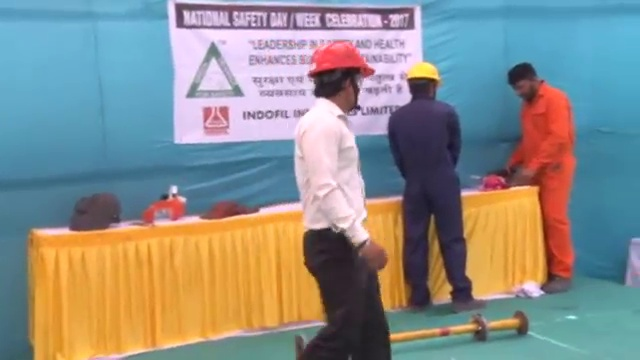helmet: (306, 37, 377, 82), (406, 60, 444, 86)
helmet_off: (504, 59, 545, 107)
helmet_on: (304, 33, 379, 122), (404, 57, 445, 105)
person: (292, 32, 393, 360), (387, 56, 490, 314), (500, 56, 576, 296)
